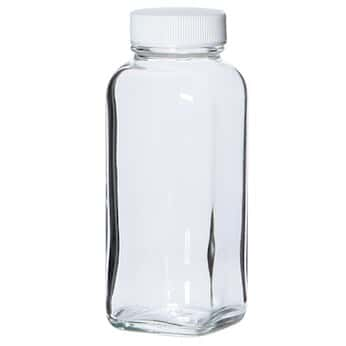glass_bottle: (105, 4, 252, 335)
